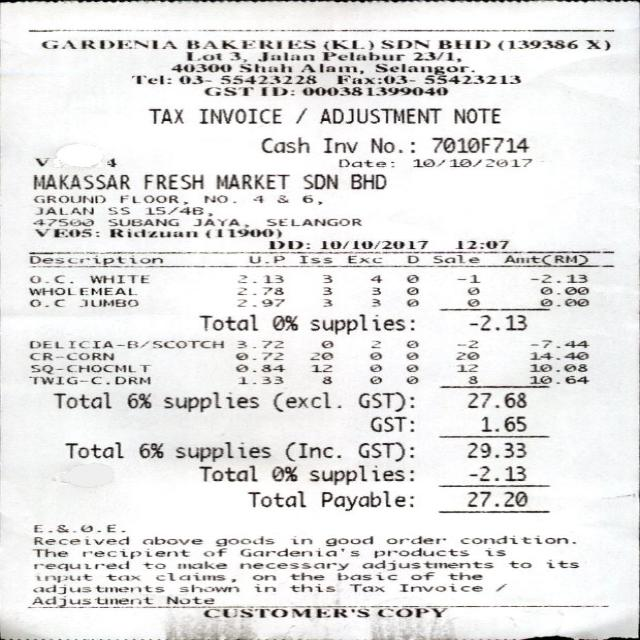text: (161, 390, 257, 412), (307, 465, 412, 484), (202, 605, 368, 617), (306, 313, 404, 333), (318, 107, 440, 123), (173, 441, 270, 461), (321, 490, 412, 510), (28, 339, 223, 348), (29, 173, 128, 189), (430, 136, 528, 152), (319, 239, 426, 253), (272, 390, 340, 412), (299, 86, 448, 96), (27, 595, 151, 607), (27, 254, 161, 264), (359, 560, 492, 570), (197, 107, 280, 123), (32, 584, 162, 594), (39, 39, 176, 48), (358, 390, 412, 412), (30, 364, 148, 374), (215, 173, 288, 189), (372, 546, 468, 558), (355, 441, 412, 461), (285, 440, 338, 461), (411, 158, 530, 167), (81, 548, 188, 558), (240, 547, 357, 556), (52, 390, 110, 408), (458, 534, 574, 543), (184, 40, 314, 48), (374, 63, 466, 74), (63, 441, 122, 458), (464, 490, 526, 506), (246, 489, 304, 506), (27, 286, 135, 295), (144, 173, 202, 189), (198, 314, 256, 330), (468, 314, 526, 330), (466, 391, 524, 407), (198, 465, 256, 481), (237, 562, 347, 570), (422, 74, 519, 83), (218, 74, 315, 83), (466, 442, 524, 457), (466, 465, 524, 480), (31, 561, 127, 570), (110, 227, 196, 237), (320, 50, 403, 60), (502, 254, 584, 264), (32, 523, 123, 532), (154, 572, 234, 582), (261, 136, 308, 153), (375, 606, 446, 617), (498, 40, 576, 50), (451, 107, 499, 123), (31, 536, 127, 544), (27, 351, 112, 360), (235, 373, 286, 388), (204, 228, 280, 238), (299, 62, 362, 74), (266, 218, 360, 226), (370, 136, 413, 153), (252, 254, 330, 263), (237, 59, 290, 72), (336, 74, 404, 84), (398, 583, 481, 591), (120, 194, 186, 204), (481, 416, 524, 431), (369, 416, 412, 431), (33, 227, 97, 237), (27, 376, 107, 384), (32, 194, 103, 203), (214, 535, 272, 546), (231, 337, 283, 349), (349, 172, 384, 189), (385, 534, 444, 544), (322, 38, 371, 50), (322, 136, 356, 153), (146, 107, 182, 123), (146, 207, 210, 216), (256, 50, 313, 60), (166, 595, 213, 607), (106, 218, 176, 226), (169, 63, 230, 72), (302, 173, 336, 189), (86, 274, 146, 283), (178, 583, 238, 592), (323, 535, 371, 546), (530, 374, 588, 383), (377, 38, 429, 48), (192, 218, 247, 227), (35, 573, 90, 582), (31, 218, 92, 226), (76, 298, 136, 306), (140, 536, 200, 544), (336, 572, 396, 580), (339, 158, 392, 167), (33, 206, 92, 214), (455, 239, 507, 248), (530, 340, 588, 348), (437, 40, 488, 49), (202, 86, 252, 95), (530, 274, 585, 282), (530, 363, 585, 371), (265, 239, 308, 249), (270, 315, 298, 330), (124, 392, 150, 408), (136, 442, 162, 458), (236, 286, 282, 295), (288, 583, 333, 592), (412, 50, 452, 60), (539, 286, 587, 294), (539, 298, 587, 306), (235, 298, 283, 306), (538, 351, 586, 359), (235, 364, 283, 372), (177, 560, 225, 568), (431, 254, 478, 262), (236, 274, 282, 282), (235, 351, 281, 359), (272, 465, 295, 481), (184, 50, 220, 60), (130, 74, 169, 83), (29, 274, 71, 282), (348, 583, 383, 592), (258, 86, 292, 95), (177, 74, 210, 83), (583, 39, 609, 50), (28, 298, 63, 306), (446, 571, 481, 579), (114, 376, 148, 384), (32, 548, 66, 556), (288, 572, 322, 580), (202, 194, 235, 202), (545, 560, 577, 568), (461, 284, 478, 299), (408, 570, 432, 580), (299, 193, 320, 204), (347, 255, 380, 262), (454, 351, 482, 359), (202, 547, 225, 556), (104, 574, 138, 580), (309, 351, 329, 361), (454, 339, 476, 348), (454, 363, 476, 372), (295, 107, 306, 123), (456, 274, 478, 282), (107, 206, 128, 214), (508, 560, 529, 568), (230, 51, 245, 62), (310, 364, 330, 372), (405, 296, 418, 308), (142, 561, 164, 568), (289, 537, 310, 544), (366, 297, 379, 308), (403, 285, 417, 295), (483, 550, 504, 556), (252, 574, 273, 580), (252, 585, 273, 591), (367, 376, 382, 384), (318, 339, 331, 348), (404, 339, 417, 348), (320, 374, 331, 384), (465, 298, 478, 306), (404, 351, 417, 359), (368, 339, 379, 348), (465, 374, 476, 383), (493, 583, 505, 591), (406, 274, 417, 282), (369, 274, 380, 282), (321, 298, 332, 306), (369, 351, 380, 359), (369, 364, 380, 372), (405, 375, 416, 383), (276, 194, 286, 202), (406, 255, 417, 262), (405, 364, 416, 371), (321, 274, 330, 282), (321, 286, 330, 294), (251, 195, 261, 202), (370, 287, 379, 294)
